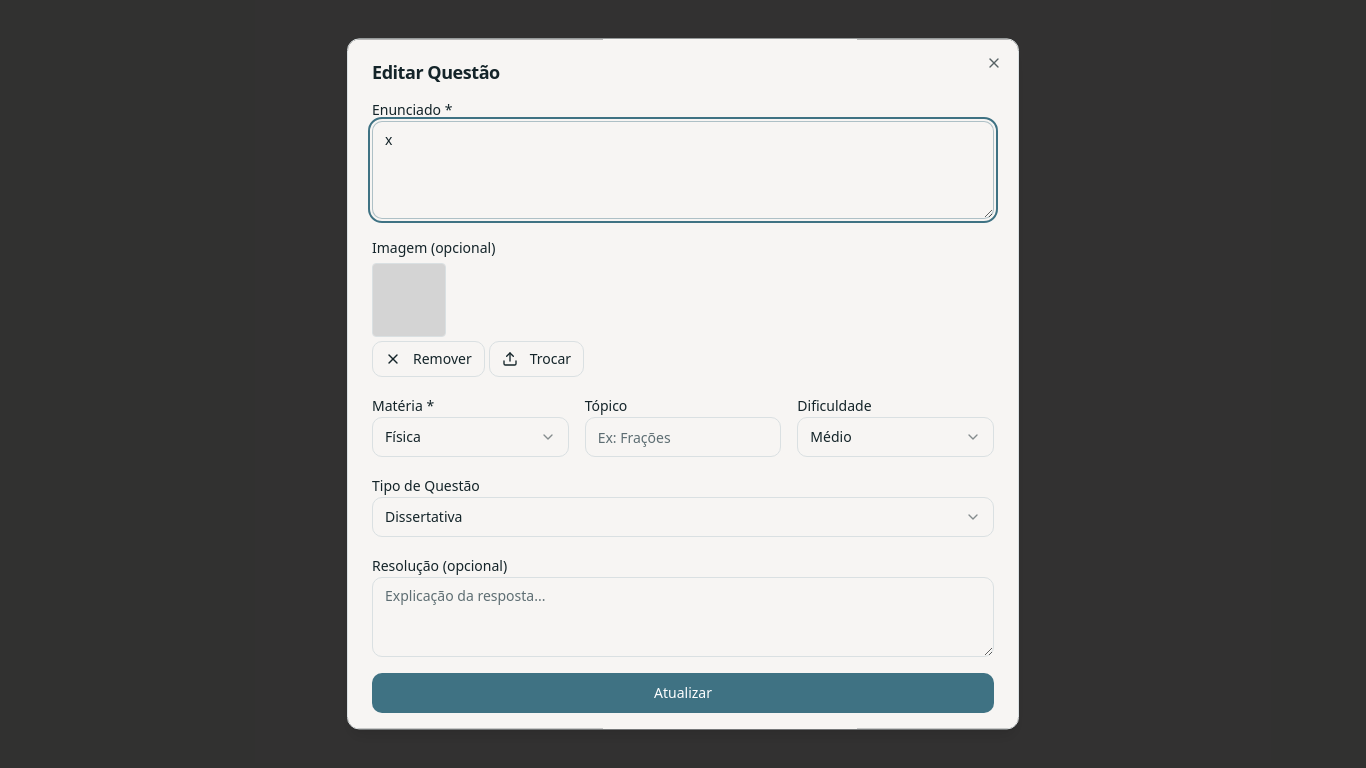
QuestionForm — image flow › clicking Remover clears the image preview and shows Upload button again
Click the button "Remover".
click(428, 359)  # box [372, 341, 485, 377]
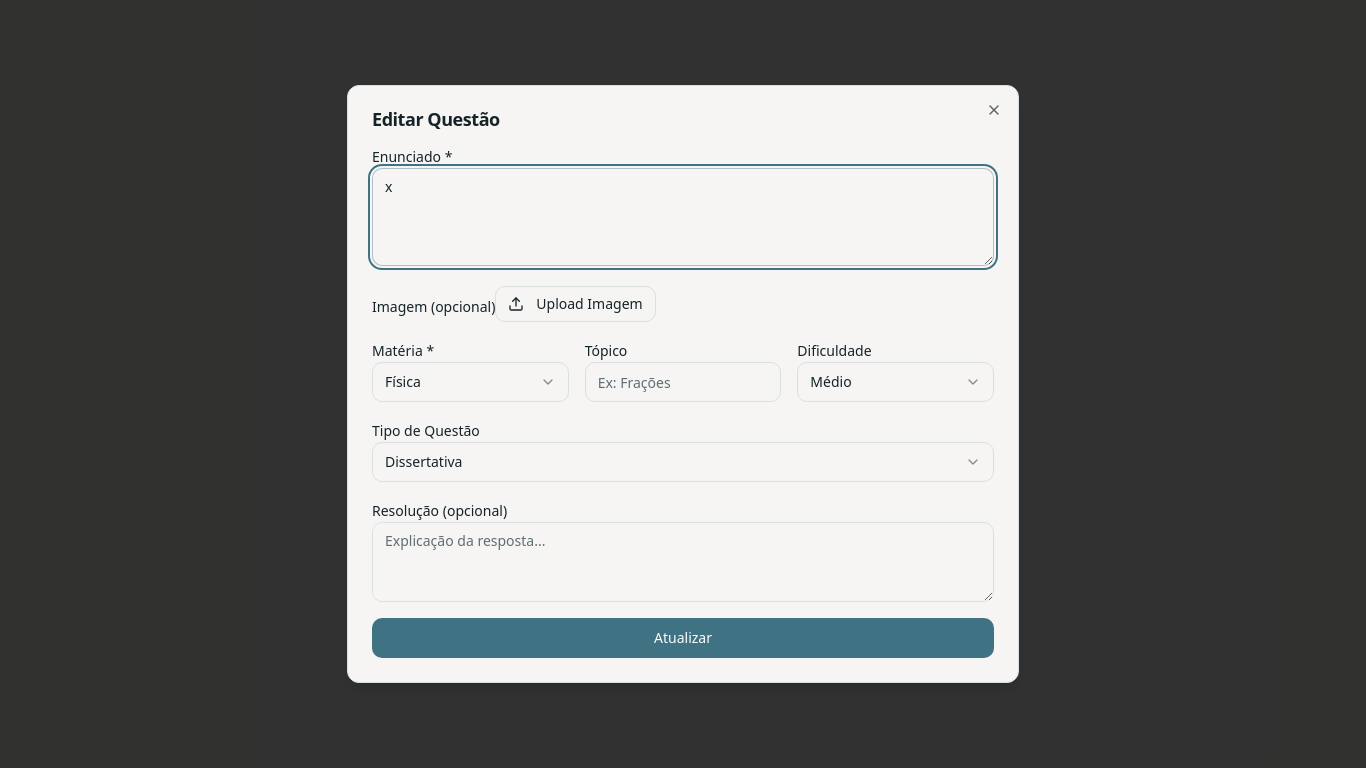
expect the button "Upload Imagem" is shown: met, box [495, 286, 656, 322]
expect the button "Remover" is gone: met
